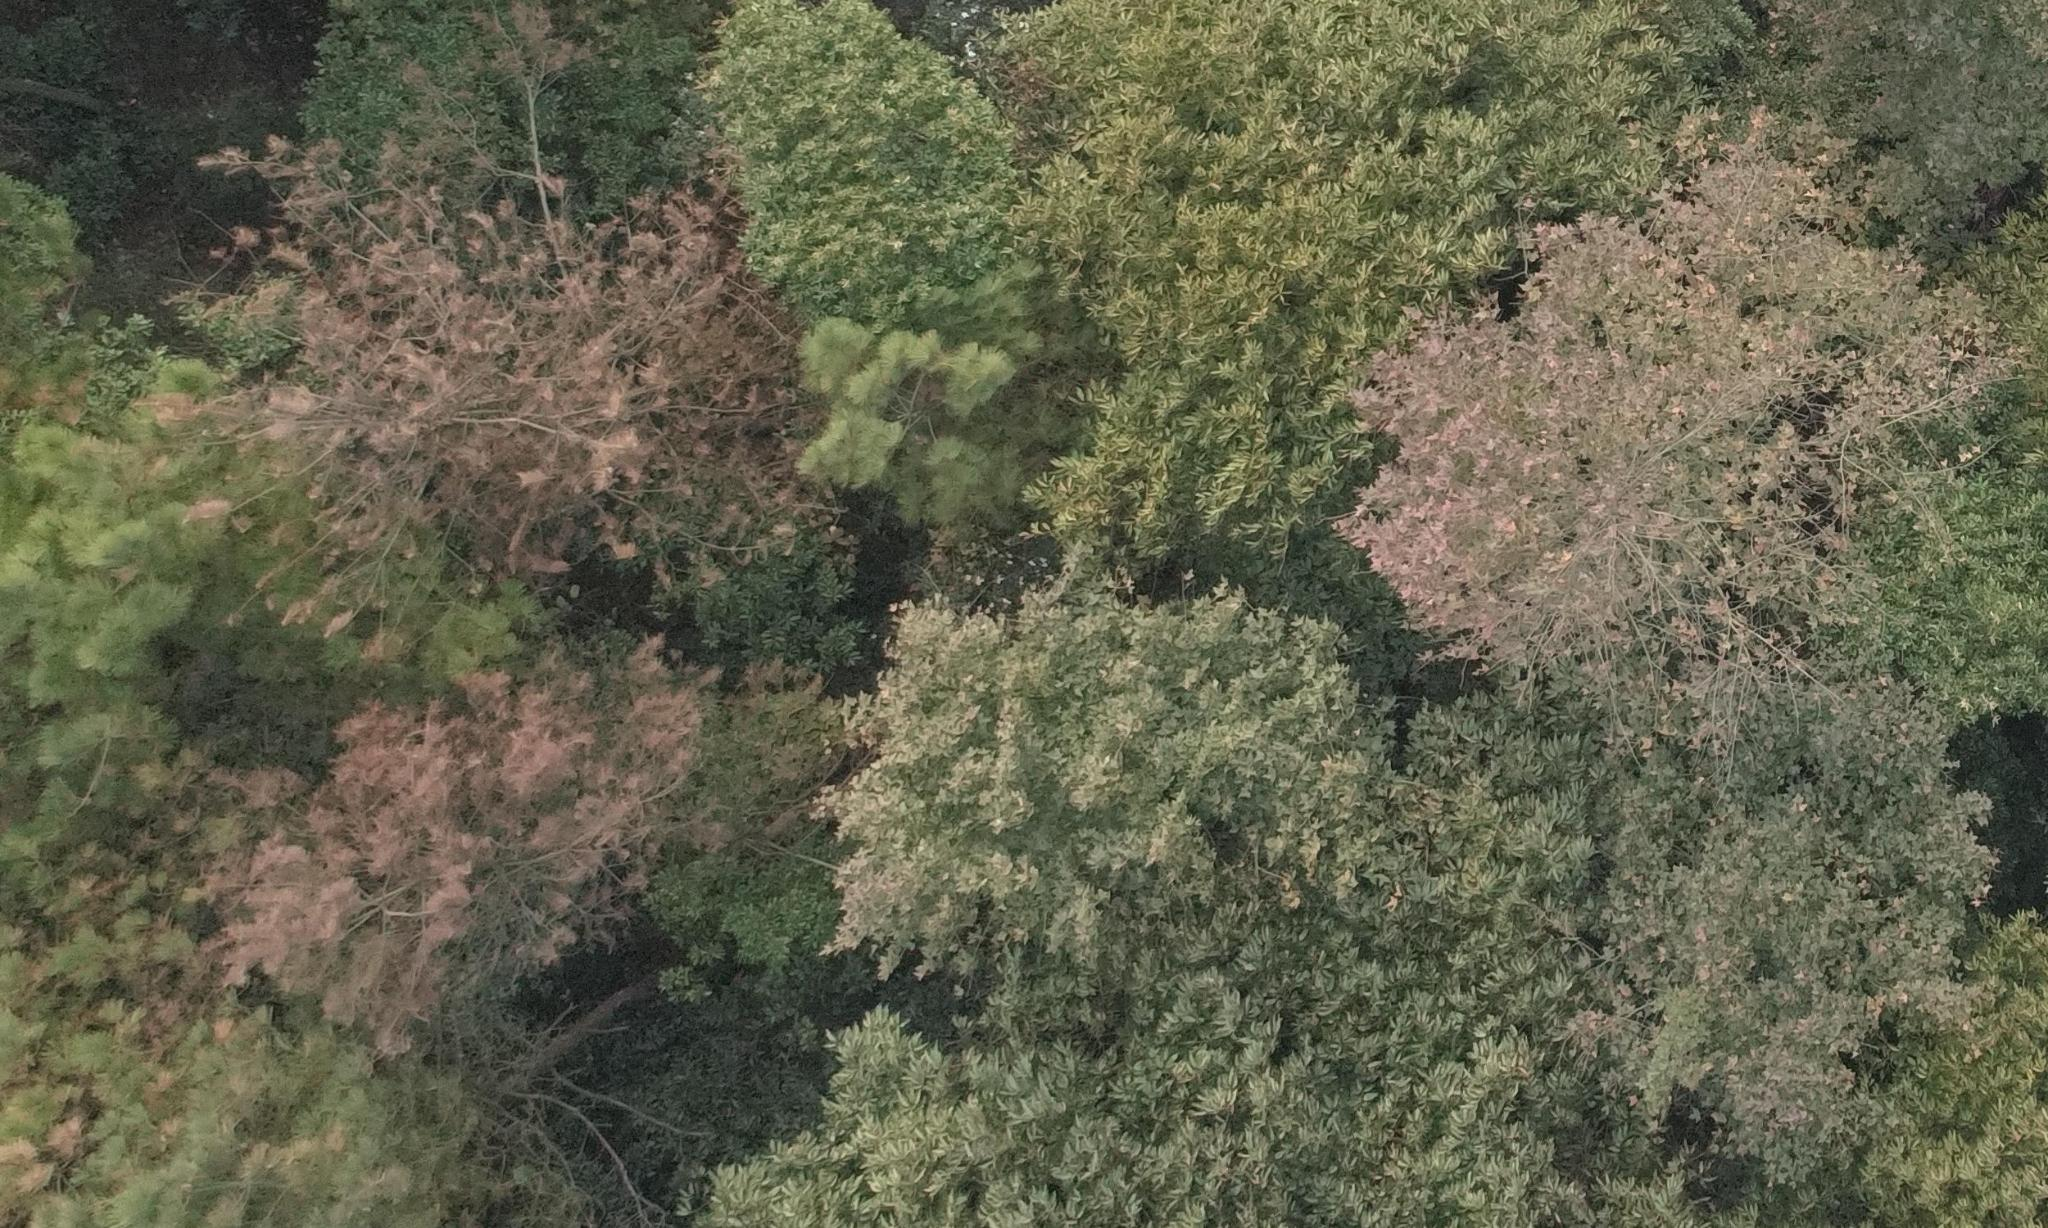heavy: (211, 161, 778, 554), (212, 652, 693, 1019)
light: (16, 1054, 352, 1206)
